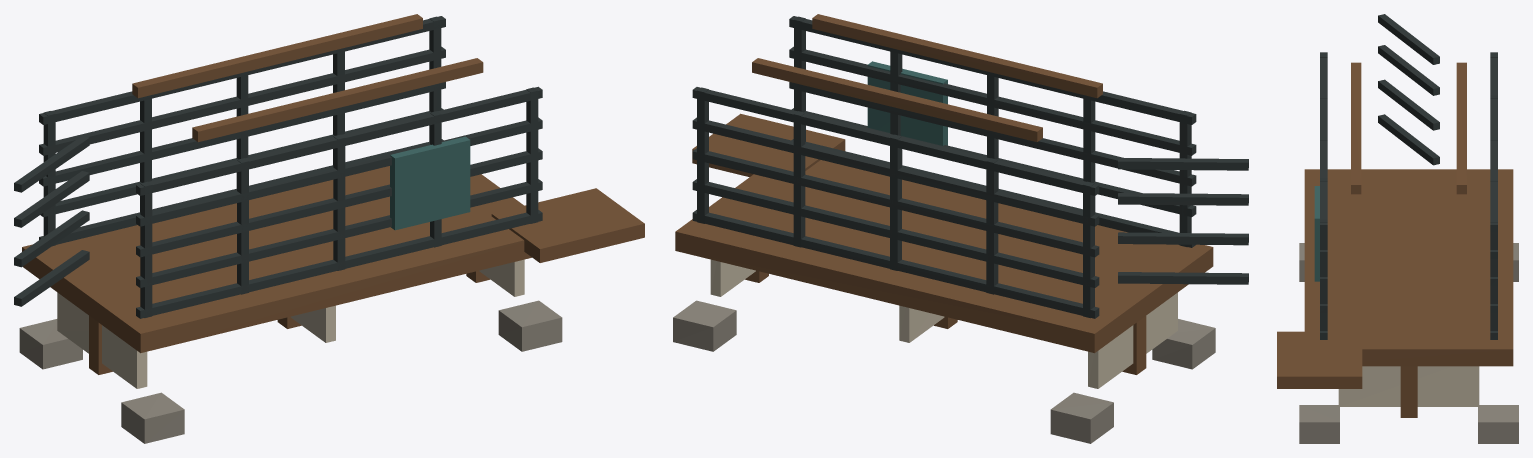
Rendered from fish-trap.source.glb.
3 views of the same model, side by side, from view 1: azimuth 30°, elevation 25°; view 2: azimuth 150°, elevation 25°; view 3: azimuth 270°, elevation 25° (orthographic). The views are drawn at different scales.
Parts seen in each view (by area): view 1: fish-trap-low-timber-base-frame-mesh, fish-trap-empty-maintenance-platform-mesh, fish-trap-closed-inspection-hatch-mesh, fish-trap-horizontal-cage-slat-2.75-1-mesh, fish-trap-upper-carry-rail-0.62-mesh, fish-trap-horizontal-cage-slat-1.35-1-mesh, fish-trap-upper-carry-rail--0.62-mesh, fish-trap-horizontal-cage-slat-2.4--1-mesh, fish-trap-horizontal-cage-slat-2.4-1-mesh, fish-trap-horizontal-cage-slat-2.05-1-mesh, fish-trap-horizontal-cage-slat-1.7-1-mesh, fish-trap-horizontal-cage-slat-2.05--1-mesh (+23 smaller); view 2: fish-trap-low-timber-base-frame-mesh, fish-trap-horizontal-cage-slat-2.75--1-mesh, fish-trap-horizontal-cage-slat-2.05--1-mesh, fish-trap-horizontal-cage-slat-2.4--1-mesh, fish-trap-upper-carry-rail--0.62-mesh, fish-trap-horizontal-cage-slat-1.35--1-mesh, fish-trap-upper-carry-rail-0.62-mesh, fish-trap-horizontal-cage-slat-2.4-1-mesh, fish-trap-horizontal-cage-slat-1.7--1-mesh, fish-trap-empty-maintenance-platform-mesh, fish-trap-horizontal-cage-slat-2.05-1-mesh, fish-trap-cream-cross-brace--2.25-mesh (+24 smaller); view 3: fish-trap-low-timber-base-frame-mesh, fish-trap-empty-maintenance-platform-mesh, fish-trap-cream-cross-brace-2.25-mesh, fish-trap-stable-stone-foot-2.25--1.05-mesh, fish-trap-stable-stone-foot-2.25-1.05-mesh, fish-trap-upper-carry-rail--0.62-mesh, fish-trap-upper-carry-rail-0.62-mesh, fish-trap-horizontal-cage-slat-2.75--1-mesh, fish-trap-horizontal-cage-slat-2.75-1-mesh, fish-trap-low-service-post-2.25-mesh, fish-trap-tapered-inlet-slat-1.45-mesh, fish-trap-tapered-inlet-slat-2.35-mesh (+5 smaller).
Part boxes in pixels (box(x1,y1,x2,y2)): fish-trap-low-timber-base-frame-mesh: box(22, 166, 531, 353); fish-trap-empty-maintenance-platform-mesh: box(491, 188, 644, 262); fish-trap-closed-inspection-hatch-mesh: box(390, 136, 470, 230); fish-trap-horizontal-cage-slat-2.75-1-mesh: box(136, 86, 542, 195); fish-trap-upper-carry-rail-0.62-mesh: box(192, 58, 483, 142); fish-trap-horizontal-cage-slat-1.35-1-mesh: box(136, 210, 542, 318); fish-trap-upper-carry-rail--0.62-mesh: box(132, 14, 422, 98); fish-trap-horizontal-cage-slat-2.4--1-mesh: box(39, 46, 445, 155); fish-trap-horizontal-cage-slat-2.4-1-mesh: box(136, 117, 542, 226); fish-trap-horizontal-cage-slat-2.05-1-mesh: box(136, 148, 542, 257); fish-trap-horizontal-cage-slat-1.7-1-mesh: box(136, 179, 542, 287); fish-trap-horizontal-cage-slat-2.05--1-mesh: box(39, 82, 445, 186); fish-trap-low-timber-base-frame-mesh: box(675, 160, 1213, 353); fish-trap-horizontal-cage-slat-2.75--1-mesh: box(692, 87, 1099, 195); fish-trap-horizontal-cage-slat-2.05--1-mesh: box(692, 148, 1099, 257); fish-trap-horizontal-cage-slat-2.4--1-mesh: box(692, 117, 1099, 226); fish-trap-upper-carry-rail--0.62-mesh: box(752, 58, 1042, 141); fish-trap-horizontal-cage-slat-1.35--1-mesh: box(692, 210, 1099, 318); fish-trap-upper-carry-rail-0.62-mesh: box(812, 14, 1102, 98); fish-trap-horizontal-cage-slat-2.4-1-mesh: box(789, 46, 1196, 155); fish-trap-horizontal-cage-slat-1.7--1-mesh: box(692, 179, 1099, 287); fish-trap-empty-maintenance-platform-mesh: box(692, 113, 845, 176); fish-trap-horizontal-cage-slat-2.05-1-mesh: box(789, 82, 1196, 186); fish-trap-cream-cross-brace--2.25-mesh: box(1088, 292, 1177, 388); fish-trap-low-timber-base-frame-mesh: box(1304, 169, 1513, 366); fish-trap-empty-maintenance-platform-mesh: box(1277, 331, 1362, 388); fish-trap-cream-cross-brace-2.25-mesh: box(1338, 366, 1479, 406); fish-trap-stable-stone-foot-2.25--1.05-mesh: box(1478, 405, 1518, 443); fish-trap-stable-stone-foot-2.25-1.05-mesh: box(1299, 405, 1339, 443); fish-trap-upper-carry-rail--0.62-mesh: box(1456, 62, 1466, 194); fish-trap-upper-carry-rail-0.62-mesh: box(1351, 62, 1361, 194); fish-trap-horizontal-cage-slat-2.75--1-mesh: box(1490, 52, 1497, 231); fish-trap-horizontal-cage-slat-2.75-1-mesh: box(1320, 52, 1327, 231); fish-trap-low-service-post-2.25-mesh: box(1400, 366, 1417, 417); fish-trap-tapered-inlet-slat-1.45-mesh: box(1378, 114, 1439, 165); fish-trap-tapered-inlet-slat-2.35-mesh: box(1378, 45, 1439, 95).
Bounding box in the file's own units: 6.79 × 3.08 × 2.84.
